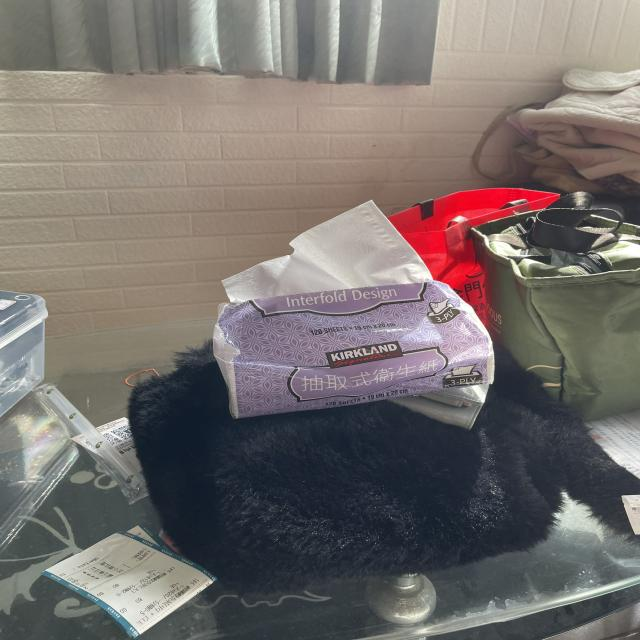tissue: (200, 197, 500, 423)
